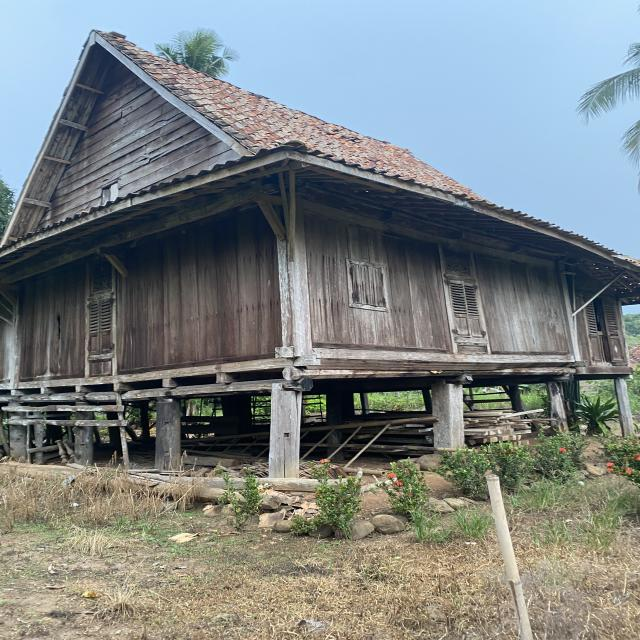Kolom: (431, 383, 465, 456), (509, 384, 523, 421)
